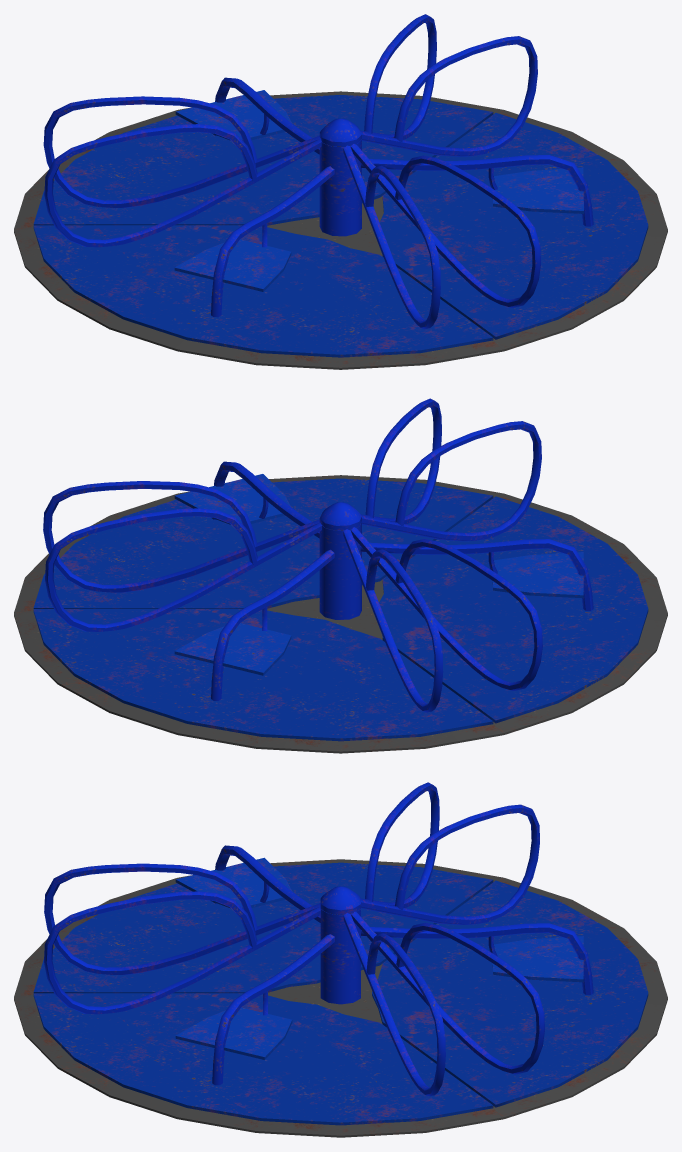
File: roundabout.fbx
3 renders of one model, top to bottom at view 1: azimuth 30°, elevation 25°; view 2: azimuth 150°, elevation 25°; view 3: azimuth 270°, elevation 25°, orthographic.
Parts seen in each view (by area): view 1: sweep1; view 2: sweep1; view 3: sweep1.
Boxes of the visible parts, x1,y1,x2,y2 form: sweep1: [14, 14, 667, 369]; sweep1: [14, 398, 667, 753]; sweep1: [14, 782, 667, 1137].
Bounding box in the file's own units: 22.46 × 4.58 × 22.46.
